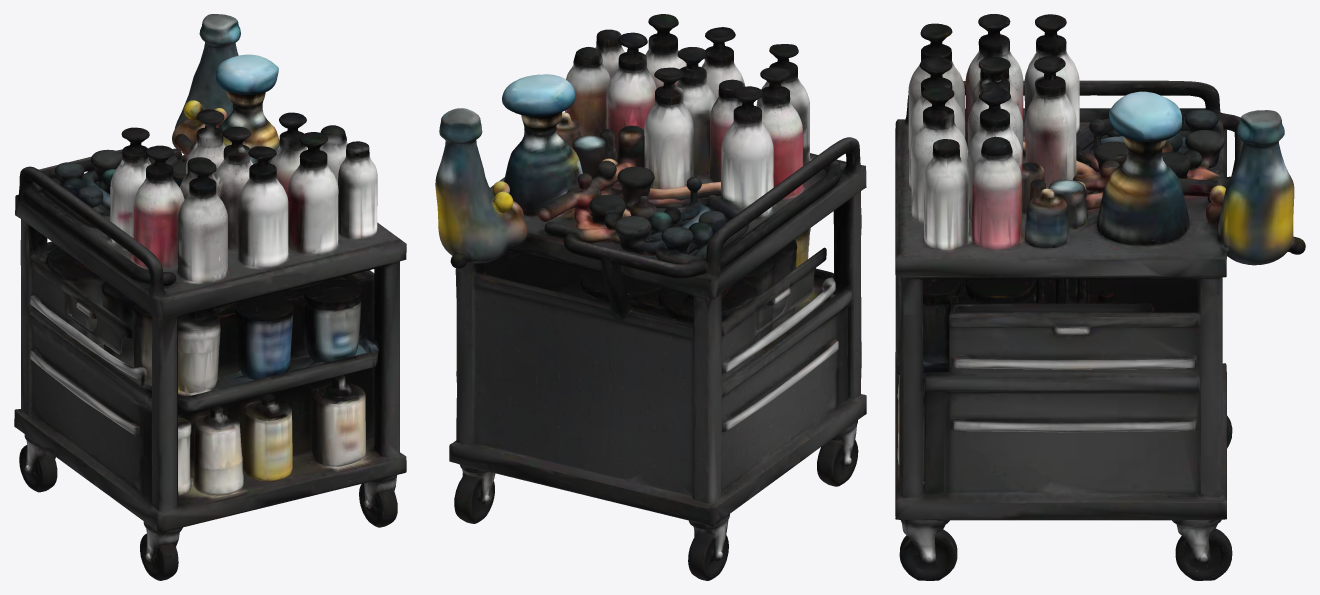
File: detailing-cart.glb
3 views of the same model, side by side, from view 1: azimuth 30°, elevation 25°; view 2: azimuth 150°, elevation 25°; view 3: azimuth 270°, elevation 25° (orthographic). The views are drawn at different scales.
Visible parts, largest first — view 1: node_0; view 2: node_0; view 3: node_0.
Part boxes in pixels (bbox=[...]): node_0: bbox=[14, 14, 406, 580]; node_0: bbox=[435, 14, 866, 580]; node_0: bbox=[895, 14, 1305, 580].
Size of the model in its own units: 0.5788 by 0.8759 by 0.712.
Materials: 1 (1 with a texture image).
